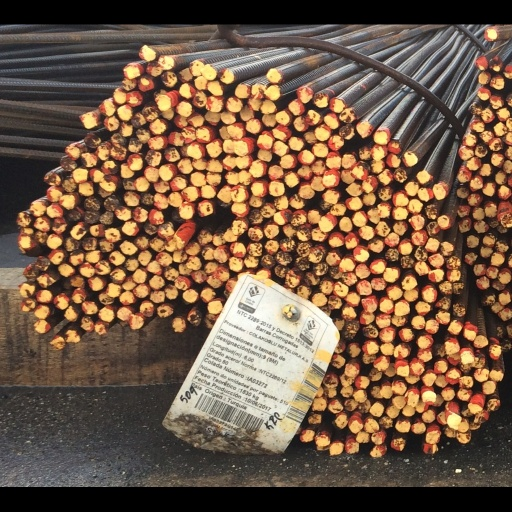dipstick: (321, 161, 338, 180), (121, 184, 140, 201), (97, 312, 116, 329), (99, 150, 119, 166), (231, 196, 249, 213), (194, 113, 211, 131), (310, 148, 326, 167), (177, 147, 193, 166), (127, 143, 143, 162), (32, 213, 51, 229), (207, 128, 222, 148), (138, 250, 153, 270), (326, 140, 340, 161), (472, 216, 489, 233), (268, 173, 285, 190), (99, 83, 116, 100), (155, 78, 172, 95), (149, 105, 166, 122), (100, 168, 117, 185), (120, 239, 137, 256), (329, 231, 345, 249), (272, 189, 290, 205), (175, 85, 193, 101), (139, 22, 155, 40), (80, 97, 96, 115), (421, 288, 436, 307), (462, 330, 476, 350), (285, 270, 298, 291), (472, 342, 488, 359), (473, 379, 490, 395), (356, 283, 372, 300), (358, 222, 374, 239), (339, 110, 355, 127), (273, 205, 290, 221), (289, 187, 305, 204), (235, 65, 251, 82), (224, 80, 241, 96), (227, 110, 243, 127), (206, 78, 222, 95), (201, 43, 217, 60), (158, 33, 174, 50), (138, 57, 154, 74), (161, 52, 177, 69), (145, 140, 162, 156), (182, 179, 199, 195), (88, 159, 105, 175), (77, 174, 94, 190), (80, 306, 97, 322), (30, 196, 46, 213), (483, 197, 498, 215), (456, 213, 471, 231), (487, 353, 502, 371), (344, 296, 362, 311), (356, 107, 371, 125), (274, 251, 292, 266), (297, 154, 312, 172), (272, 128, 287, 146), (264, 66, 279, 84), (245, 104, 260, 122), (250, 173, 265, 191), (231, 216, 246, 234), (131, 96, 146, 114), (153, 186, 168, 204), (51, 213, 66, 231), (47, 249, 65, 264), (319, 212, 333, 231), (458, 133, 474, 149), (445, 269, 461, 285), (401, 277, 417, 293), (375, 319, 391, 335), (387, 288, 403, 304), (369, 260, 385, 276), (369, 236, 385, 252), (352, 207, 368, 223), (345, 190, 361, 206), (311, 296, 327, 312), (294, 257, 310, 273), (230, 241, 246, 257), (103, 101, 119, 117), (163, 135, 179, 151), (118, 107, 134, 123), (85, 120, 101, 136), (149, 235, 165, 251), (156, 252, 172, 268), (162, 268, 178, 284), (94, 261, 110, 277), (122, 217, 138, 233), (46, 231, 62, 247), (464, 147, 481, 162), (465, 185, 482, 200), (481, 230, 496, 247), (435, 299, 450, 316), (435, 316, 450, 333), (481, 393, 496, 410), (393, 306, 410, 321), (383, 268, 398, 285), (353, 245, 368, 262), (385, 143, 402, 158), (373, 116, 388, 133), (351, 155, 366, 172), (311, 224, 326, 241), (296, 223, 311, 240), (264, 219, 279, 236), (314, 112, 329, 129), (323, 99, 338, 116), (297, 69, 312, 86), (293, 100, 308, 117), (288, 123, 303, 140), (256, 136, 273, 151), (231, 179, 246, 196), (208, 62, 223, 79), (191, 162, 206, 179), (143, 90, 158, 107), (148, 123, 165, 138), (132, 201, 147, 218), (156, 309, 173, 324), (128, 321, 143, 338), (115, 312, 132, 327), (147, 260, 162, 277), (53, 299, 68, 316), (87, 278, 102, 295), (109, 250, 124, 267), (46, 179, 61, 196), (491, 141, 505, 159), (490, 251, 504, 269), (432, 176, 446, 194), (403, 140, 417, 158), (251, 64, 265, 82), (223, 143, 237, 161), (113, 70, 127, 88), (140, 305, 154, 323), (98, 295, 116, 309), (487, 36, 502, 52), (489, 57, 504, 73), (488, 78, 504, 93), (480, 92, 495, 108), (495, 91, 510, 107), (493, 107, 508, 123), (481, 174, 496, 190), (474, 278, 490, 293), (485, 414, 501, 429), (447, 327, 462, 343), (363, 437, 379, 452), (344, 375, 360, 390), (398, 335, 414, 350), (415, 306, 431, 321), (361, 302, 377, 317), (341, 311, 357, 326), (407, 193, 422, 209), (392, 200, 408, 215), (388, 127, 403, 143), (371, 133, 387, 148), (378, 160, 393, 176), (290, 208, 306, 223), (280, 236, 296, 251), (299, 177, 314, 193), (312, 131, 327, 147), (313, 76, 329, 91), (268, 156, 283, 172), (220, 95, 236, 110), (224, 162, 239, 178), (247, 224, 262, 240), (247, 239, 262, 255), (228, 257, 243, 273), (197, 228, 212, 244), (197, 196, 212, 212), (178, 198, 193, 214), (206, 148, 222, 163), (204, 95, 219, 111), (187, 132, 203, 147), (123, 44, 139, 59), (126, 75, 142, 90), (117, 90, 132, 106), (168, 119, 184, 134), (145, 158, 160, 174), (110, 119, 126, 134), (110, 133, 126, 148), (80, 142, 96, 157), (119, 153, 134, 169), (73, 158, 88, 174), (62, 169, 77, 185), (148, 205, 164, 220), (65, 337, 80, 353), (135, 234, 150, 250), (115, 202, 131, 217), (105, 225, 120, 241), (68, 251, 84, 266), (83, 205, 99, 220), (84, 191, 100, 206), (24, 267, 39, 283), (18, 286, 34, 301), (34, 327, 50, 342), (455, 161, 472, 175), (496, 177, 510, 194), (456, 198, 470, 215), (471, 201, 485, 218), (465, 231, 479, 248), (424, 198, 438, 215), (439, 239, 453, 256), (431, 352, 445, 369), (456, 402, 470, 419), (331, 364, 345, 381), (361, 333, 378, 347), (414, 261, 428, 278), (393, 217, 407, 234), (410, 210, 424, 227), (375, 218, 389, 235), (377, 178, 391, 195), (341, 142, 355, 159), (329, 122, 343, 139), (322, 184, 339, 198), (344, 231, 358, 248), (319, 281, 333, 298), (297, 140, 314, 154), (235, 128, 249, 145), (214, 247, 228, 264), (186, 239, 200, 256), (182, 114, 196, 131), (159, 156, 173, 173), (128, 125, 142, 142), (97, 133, 111, 150), (44, 164, 61, 178), (37, 276, 54, 290), (474, 33, 487, 51), (446, 381, 459, 399), (405, 405, 418, 423), (218, 179, 231, 197), (193, 74, 206, 92), (64, 312, 77, 330), (308, 204, 320, 223), (444, 349, 459, 364), (458, 359, 473, 374), (425, 449, 440, 464), (409, 373, 424, 388), (393, 354, 408, 369), (428, 270, 443, 285), (371, 280, 386, 295), (359, 316, 374, 331), (418, 180, 433, 195), (369, 150, 384, 165), (303, 275, 318, 290), (263, 238, 278, 253), (339, 94, 354, 109), (275, 96, 290, 111), (261, 83, 276, 98), (266, 49, 281, 64), (249, 187, 264, 202), (192, 271, 207, 286), (206, 162, 221, 177), (158, 220, 173, 235), (172, 249, 187, 264), (148, 277, 163, 292), (106, 286, 121, 301), (79, 264, 94, 279), (71, 221, 86, 236), (67, 203, 82, 218), (34, 310, 49, 325), (483, 2, 497, 18), (472, 264, 486, 280), (497, 271, 511, 287), (451, 308, 465, 324), (489, 379, 503, 395), (433, 371, 447, 387), (446, 429, 460, 445), (327, 415, 343, 429), (312, 412, 326, 428), (386, 420, 400, 436), (323, 387, 339, 401), (374, 368, 388, 384), (363, 350, 379, 364), (380, 337, 394, 353), (390, 321, 406, 335), (379, 303, 393, 319), (355, 264, 369, 280), (385, 247, 399, 263), (399, 239, 413, 255), (376, 198, 390, 214), (346, 176, 362, 190), (341, 274, 357, 288), (308, 248, 322, 264), (310, 168, 324, 184), (284, 163, 298, 179), (247, 81, 263, 95), (200, 292, 214, 308), (182, 293, 198, 307), (215, 267, 229, 283), (187, 256, 201, 272), (219, 49, 233, 65), (122, 59, 138, 73), (135, 169, 149, 185), (65, 133, 79, 149), (61, 146, 77, 160), (164, 288, 178, 304), (172, 324, 186, 340), (120, 295, 134, 311), (133, 287, 147, 303), (131, 271, 147, 285), (98, 236, 112, 252), (81, 235, 97, 249), (57, 264, 73, 278), (63, 235, 79, 249), (59, 189, 75, 203), (45, 199, 61, 213), (17, 233, 31, 249), (20, 302, 34, 318), (474, 130, 487, 147), (469, 168, 482, 185), (498, 294, 511, 311), (436, 210, 449, 227), (426, 217, 439, 234), (416, 344, 433, 357), (312, 264, 329, 277), (297, 287, 310, 304), (330, 80, 343, 97), (306, 94, 319, 111), (250, 152, 263, 169), (239, 160, 252, 177), (250, 204, 263, 221), (187, 100, 204, 113), (81, 323, 94, 340), (89, 221, 106, 234), (495, 161, 507, 179), (469, 106, 484, 120), (446, 255, 460, 270), (450, 284, 464, 299), (458, 389, 473, 403), (440, 401, 455, 415), (456, 450, 471, 464), (444, 416, 459, 430), (421, 426, 435, 441), (395, 438, 410, 452), (369, 466, 384, 480), (378, 433, 392, 448), (329, 462, 343, 477), (349, 436, 363, 451), (424, 327, 439, 341), (417, 359, 432, 373), (339, 387, 354, 401), (411, 322, 425, 337), (345, 327, 360, 341), (416, 161, 430, 176), (393, 186, 408, 200), (326, 252, 340, 267), (339, 259, 354, 273), (333, 285, 347, 300), (327, 267, 341, 282), (283, 220, 297, 235), (261, 255, 275, 270), (272, 114, 287, 128), (258, 122, 272, 137), (262, 97, 276, 112), (235, 145, 250, 159), (200, 246, 214, 261), (201, 177, 215, 192), (179, 65, 193, 80), (193, 147, 207, 162), (173, 100, 188, 114), (154, 172, 169, 186), (135, 115, 149, 130), (71, 293, 85, 308), (125, 258, 139, 273), (104, 191, 118, 206), (69, 277, 84, 291), (36, 293, 51, 307), (476, 69, 489, 85), (485, 266, 498, 282), (446, 362, 459, 378), (422, 385, 435, 401), (368, 379, 381, 395), (347, 352, 360, 368), (429, 253, 442, 269), (425, 236, 438, 252), (411, 228, 424, 244), (415, 245, 428, 261), (393, 159, 406, 175), (359, 133, 372, 149), (362, 186, 375, 202), (274, 265, 287, 281), (288, 84, 301, 100), (240, 90, 253, 106), (218, 111, 231, 127), (222, 127, 235, 143), (140, 185, 153, 201), (122, 279, 135, 295), (111, 270, 124, 286), (339, 212, 351, 229), (35, 226, 47, 243), (368, 202, 379, 220), (477, 52, 491, 66), (463, 121, 477, 135), (494, 238, 508, 252), (463, 252, 477, 266), (482, 298, 496, 312), (498, 313, 512, 327), (468, 436, 482, 450), (371, 451, 385, 465), (300, 448, 314, 462), (308, 430, 322, 444), (414, 415, 428, 429), (355, 389, 369, 403), (323, 400, 337, 414), (380, 352, 394, 366), (403, 292, 417, 306), (327, 300, 341, 314), (385, 231, 399, 245), (194, 57, 208, 71), (179, 49, 193, 63), (147, 43, 161, 57), (171, 168, 185, 182), (150, 294, 164, 308), (489, 125, 502, 140), (456, 178, 469, 193), (422, 463, 437, 476), (412, 438, 425, 453), (391, 457, 404, 472), (355, 449, 370, 462), (345, 461, 360, 474), (406, 384, 419, 399), (380, 399, 393, 414), (393, 395, 406, 410), (399, 256, 414, 269), (405, 174, 418, 189), (297, 241, 310, 256), (224, 226, 237, 241), (203, 321, 216, 336), (168, 185, 181, 200), (121, 170, 136, 183), (96, 177, 111, 190), (36, 256, 49, 271), (479, 152, 491, 168), (500, 208, 512, 224), (439, 284, 451, 300), (314, 453, 330, 465), (261, 197, 273, 213), (190, 40, 202, 56), (491, 281, 505, 294), (468, 418, 482, 431), (474, 428, 487, 442), (459, 421, 472, 435), (443, 444, 457, 457), (370, 419, 383, 433), (402, 420, 415, 434), (421, 405, 435, 418), (397, 375, 410, 389), (353, 404, 367, 417), (341, 161, 355, 174), (330, 198, 344, 211), (280, 145, 294, 158), (207, 306, 221, 319), (208, 277, 221, 291), (174, 280, 188, 293), (50, 347, 64, 360), (99, 207, 113, 220), (17, 208, 30, 222), (469, 86, 481, 101), (477, 245, 492, 257), (473, 365, 485, 380), (435, 386, 447, 401), (335, 431, 347, 446), (358, 416, 370, 431), (333, 349, 345, 364), (332, 324, 344, 339), (256, 269, 271, 281), (189, 318, 201, 333), (436, 427, 447, 443), (370, 399, 381, 415), (385, 374, 396, 390), (226, 282, 237, 298), (174, 234, 185, 250), (165, 235, 176, 251), (479, 118, 492, 131), (340, 399, 353, 412), (303, 119, 316, 132), (178, 264, 191, 277), (160, 92, 173, 105), (144, 219, 157, 232), (485, 213, 499, 225), (343, 415, 357, 427), (392, 411, 406, 423), (245, 256, 257, 270), (205, 262, 217, 276), (86, 250, 100, 262), (489, 307, 504, 318), (457, 437, 468, 452), (19, 223, 34, 234), (458, 374, 471, 386), (343, 337, 355, 350), (362, 172, 374, 185), (95, 330, 107, 343), (213, 230, 224, 244), (362, 363, 374, 375), (432, 409, 442, 423), (504, 43, 512, 60), (178, 133, 188, 145), (314, 400, 323, 412), (505, 118, 512, 133)
